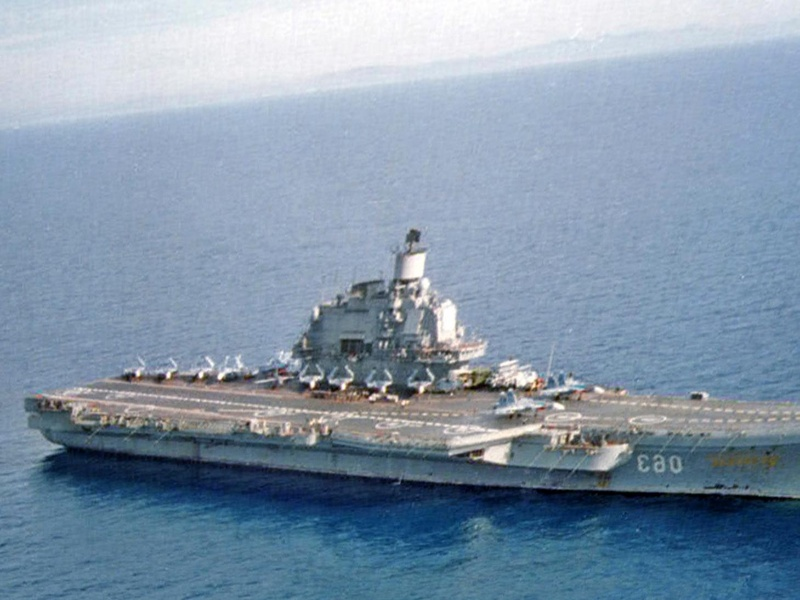carrier: (23, 235, 800, 499)
